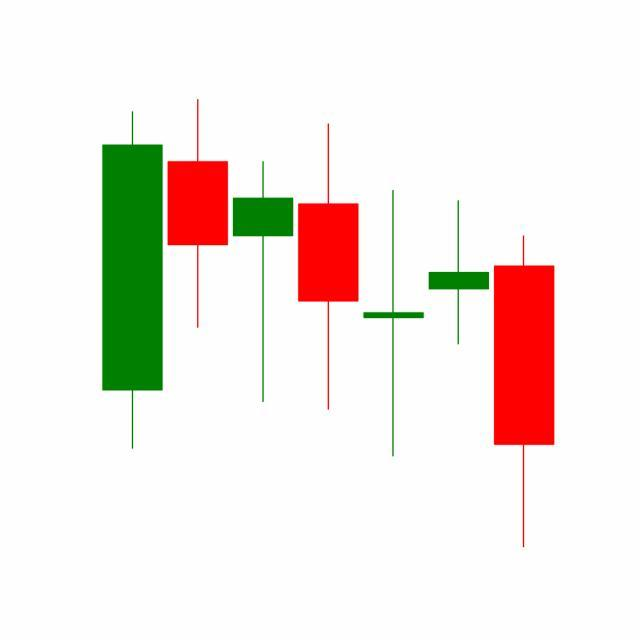Hikkake Pattern: (229, 119, 555, 548)
